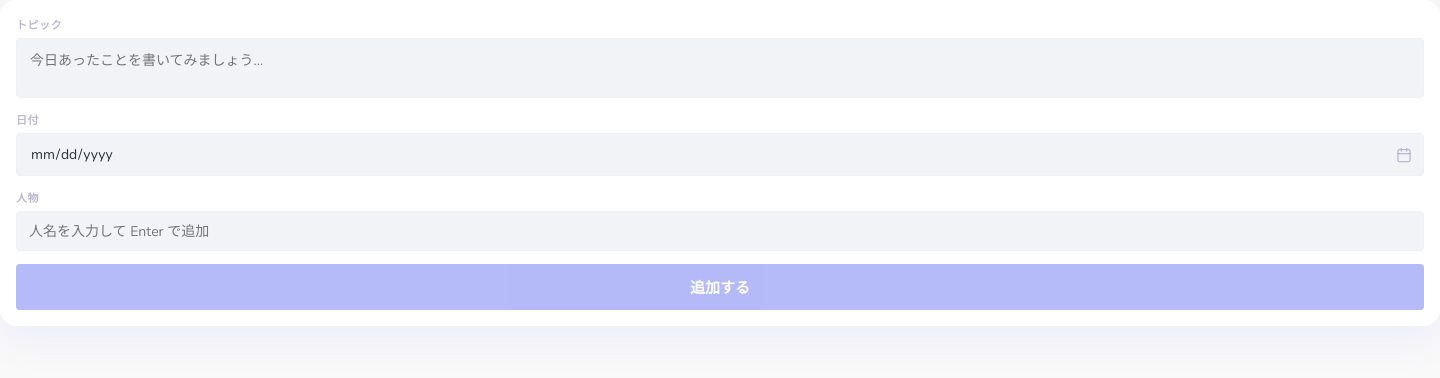
Test: TopicForm › clears fields after submit
In the text box labelled "トピック": point(720, 68) [16,38,1424,98], type "今日あったこと"
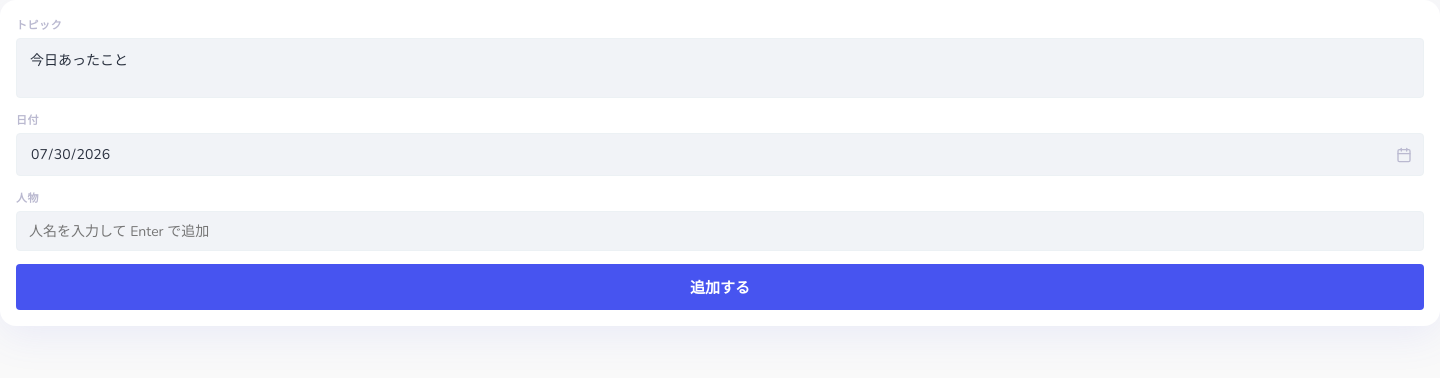
In the date field labelled "日付": point(720, 154) [16,133,1424,176], type "2024-01-15"
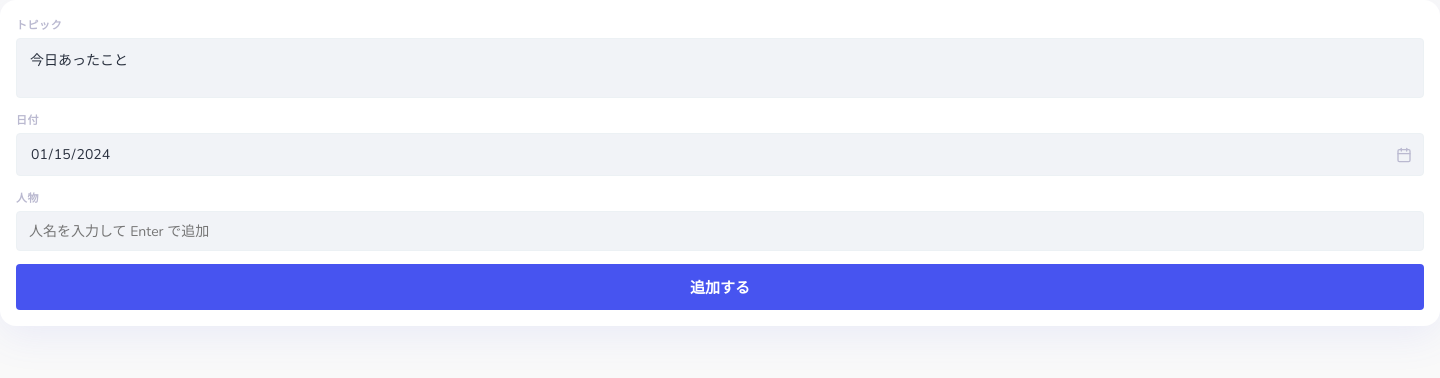
In the field with class "tag-text-input": point(720, 231) [16,211,1424,251], type "田中"
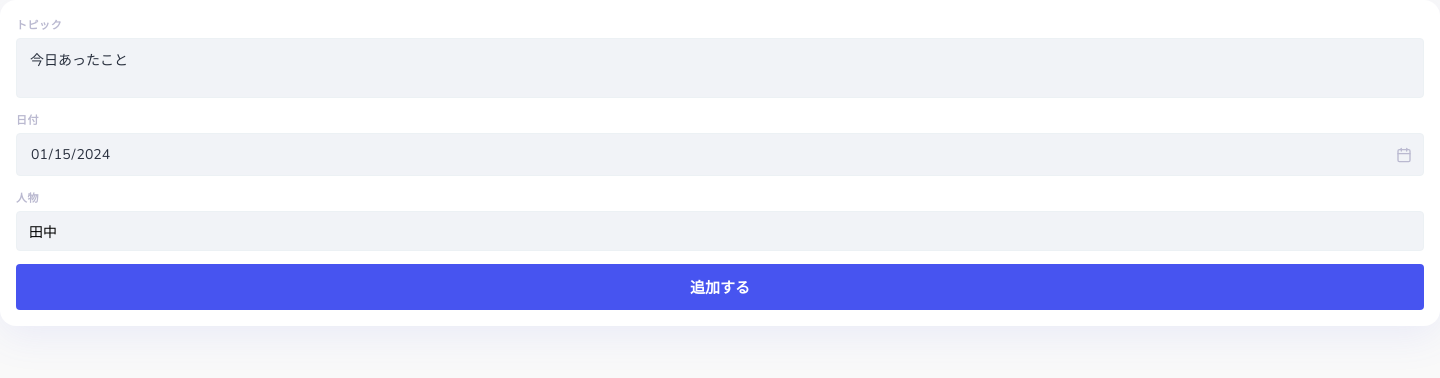
Press Enter in the field with class "tag-text-input", box [16,211,1424,251]
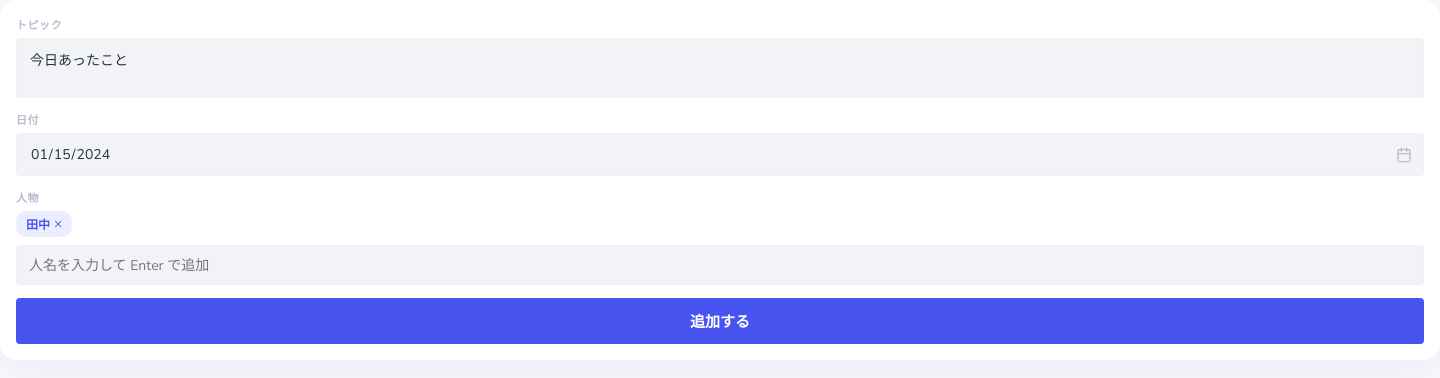
Submit the form
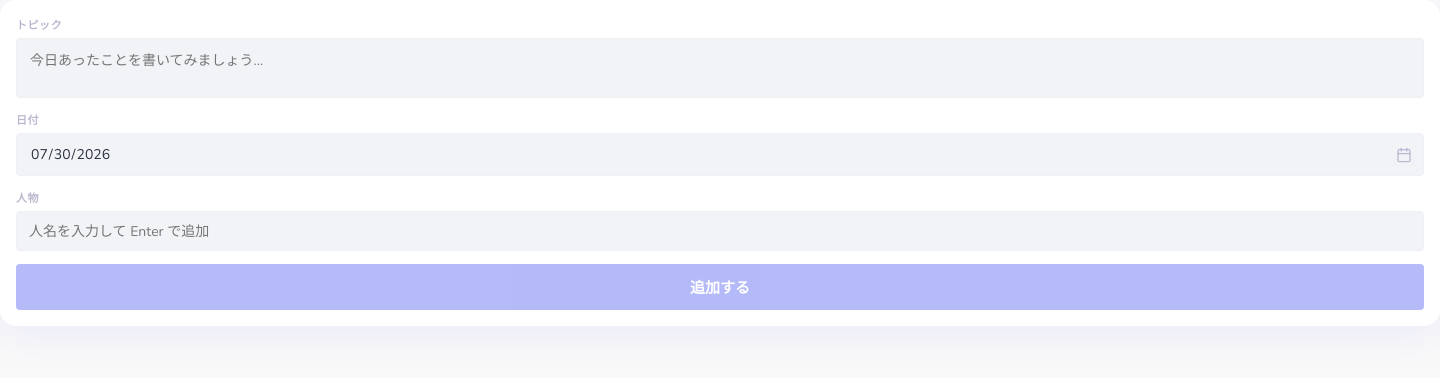
Now the text box labelled "トピック" is empty, box [16,38,1424,98]
Now no list items with class "tag" are shown
